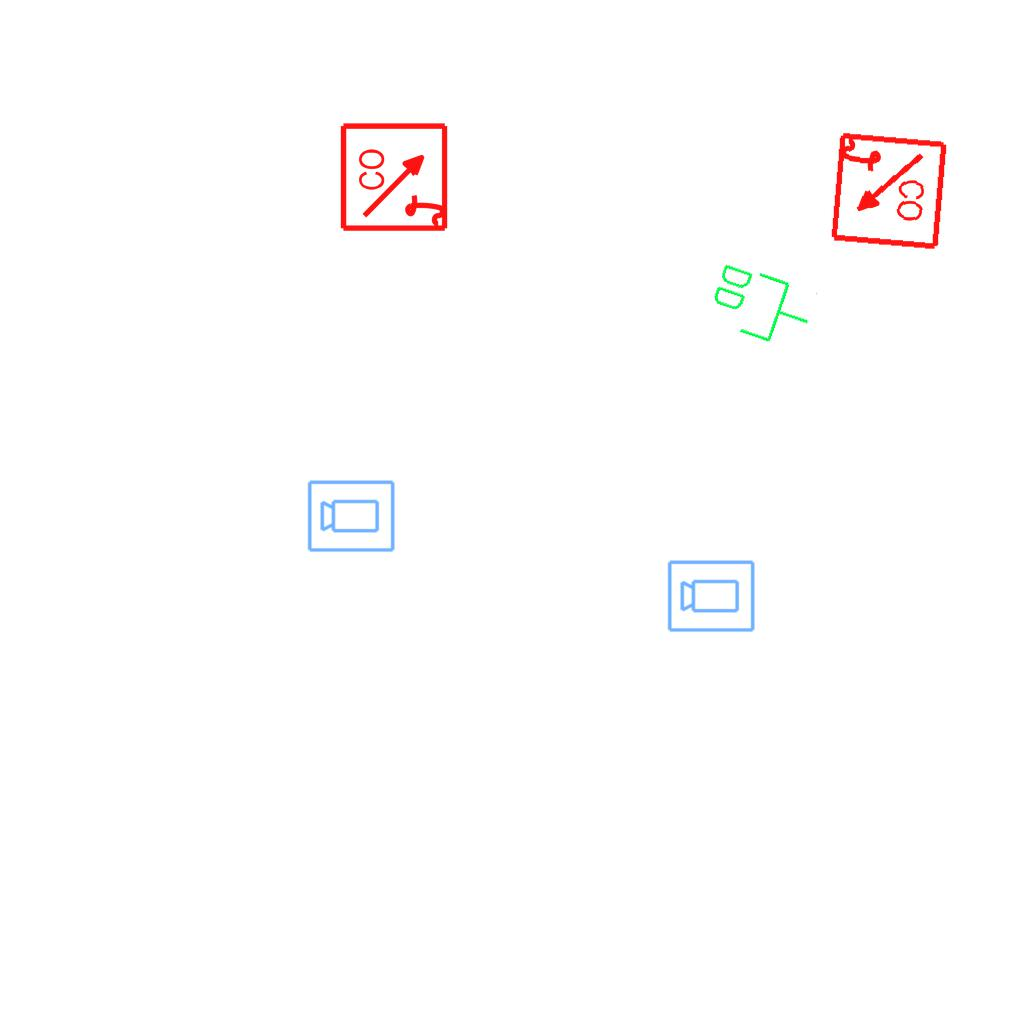Datenanschluss_zweifach: (701, 256, 822, 355)
KFO_Kamera_mit_Festobjektiv: (666, 557, 757, 634), (306, 477, 397, 554)
ROA_Rauchmelder_optisch_mit_Signalgeber_(Sockelsirene): (826, 130, 949, 253), (339, 120, 452, 233)
